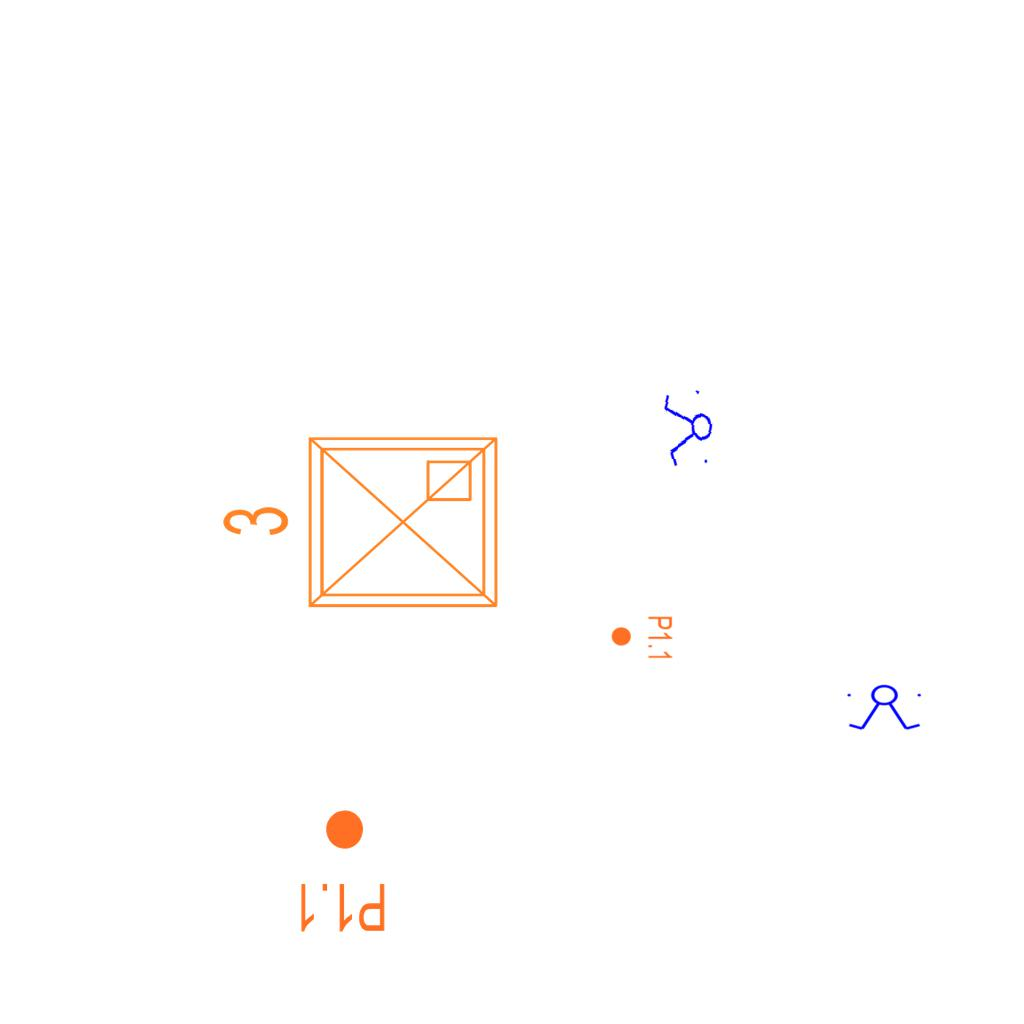Downlight_LED_Einbauleuchten_Flur: (295, 807, 388, 935), (610, 615, 674, 661)
Einbaudownlights_LED_Konferenzraeume: (212, 422, 512, 630)
Serienschalter: (660, 384, 718, 474), (843, 684, 927, 732)
